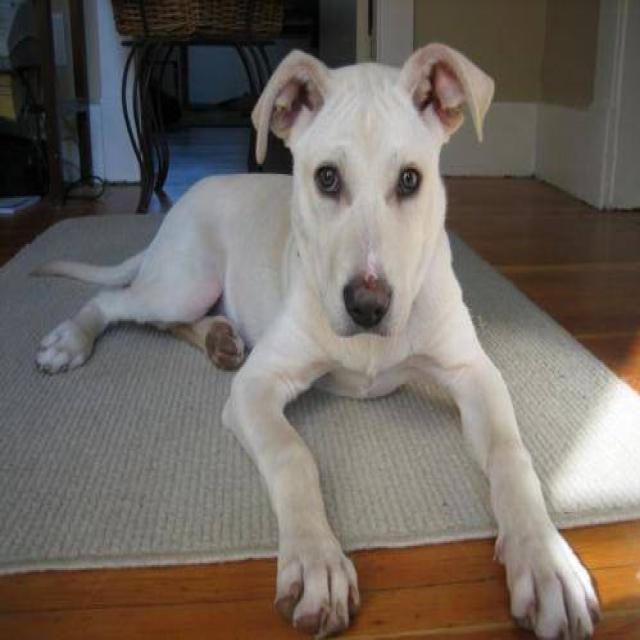dogs: (46, 22, 607, 633)
